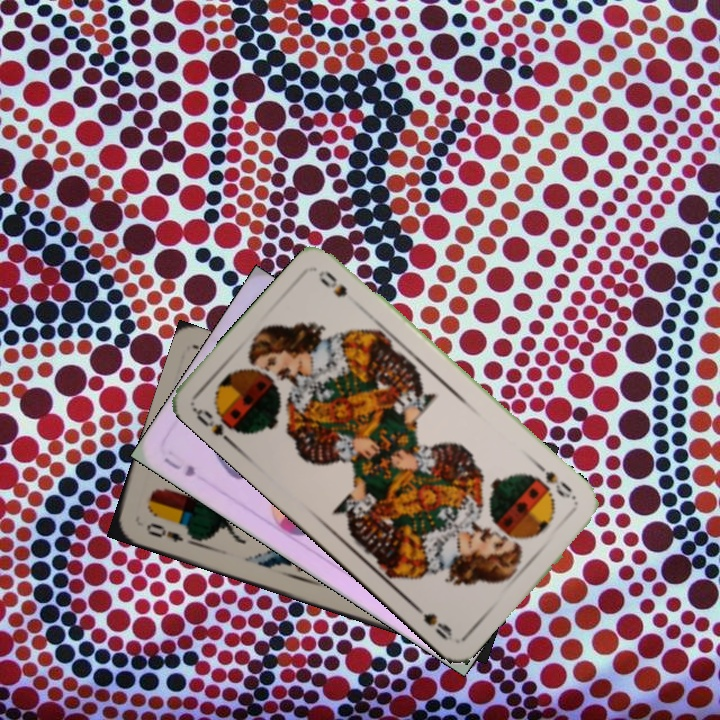EO: (142, 518, 186, 545)
SO: (190, 403, 246, 449), (531, 459, 579, 503)
SU: (160, 453, 199, 480)
